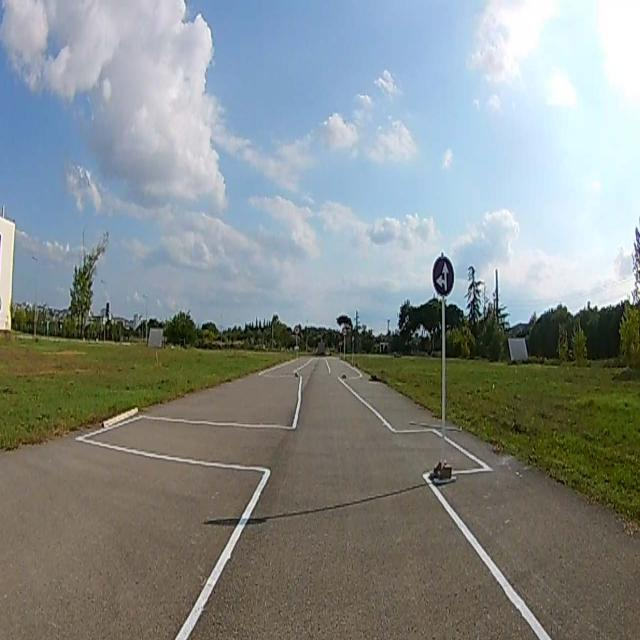ilerisol: (432, 256, 454, 296)
